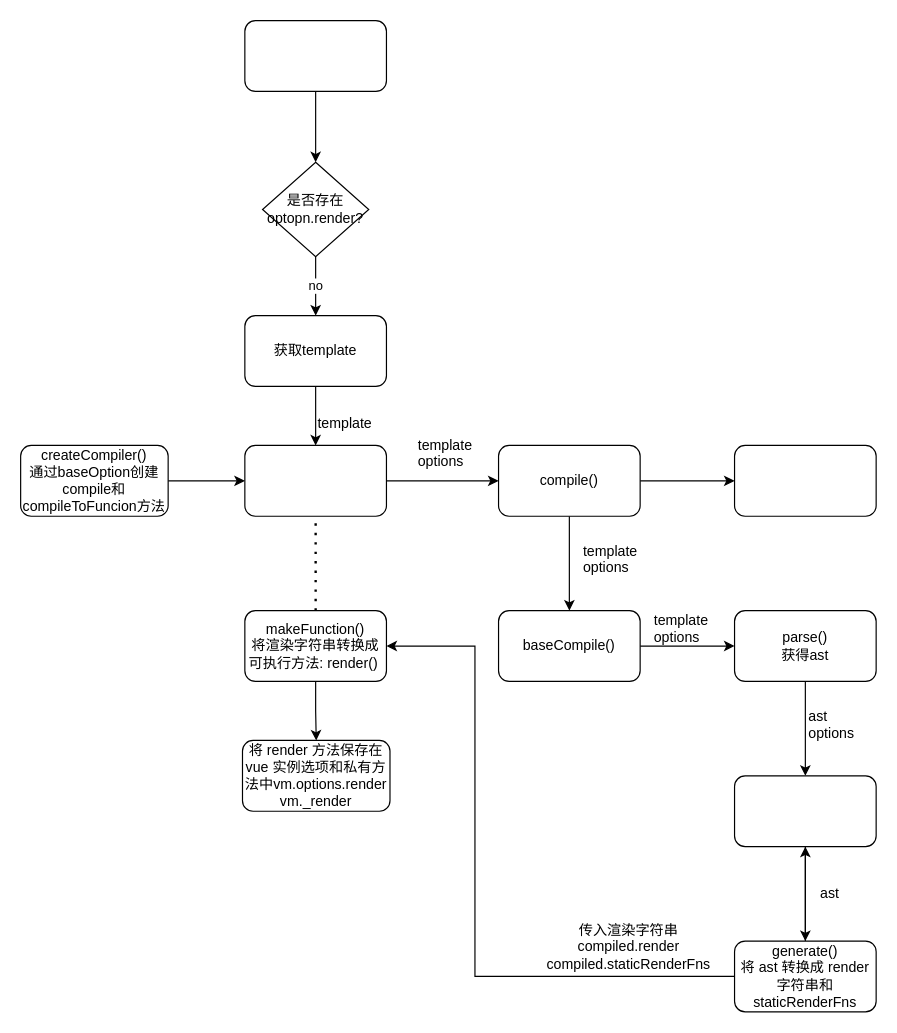
This 897x1033 diagram has some shape labels left out. The centre of each missing label's shape, as x and y in pixels:
"compilteToFunciton()" belongs at (315,480).
"mount()" belongs at (315,55).
"optimize() 静态标记" belongs at (804,811).
"合并modules、directives其余options" belongs at (804,480).
